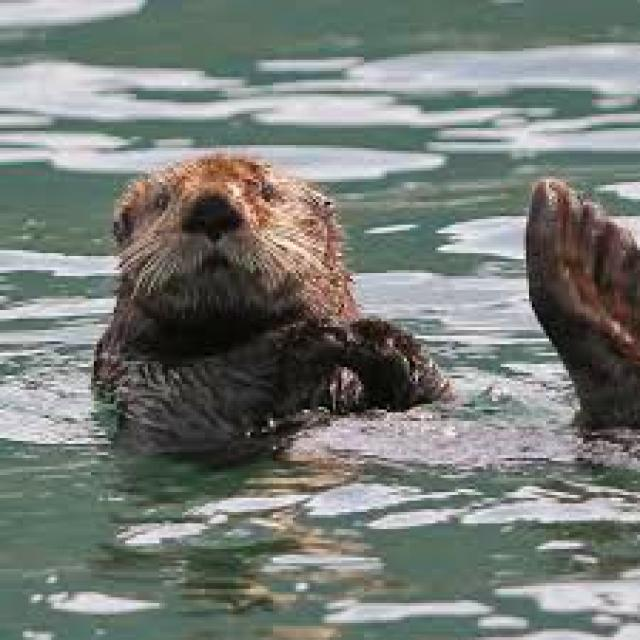otter: (91, 154, 449, 458)
